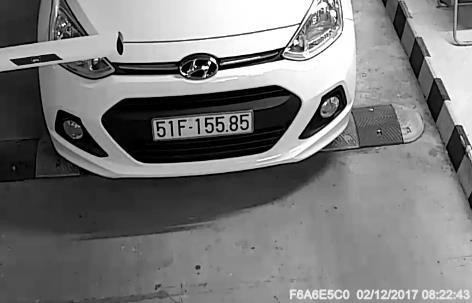License-plate: (147, 108, 260, 146)
